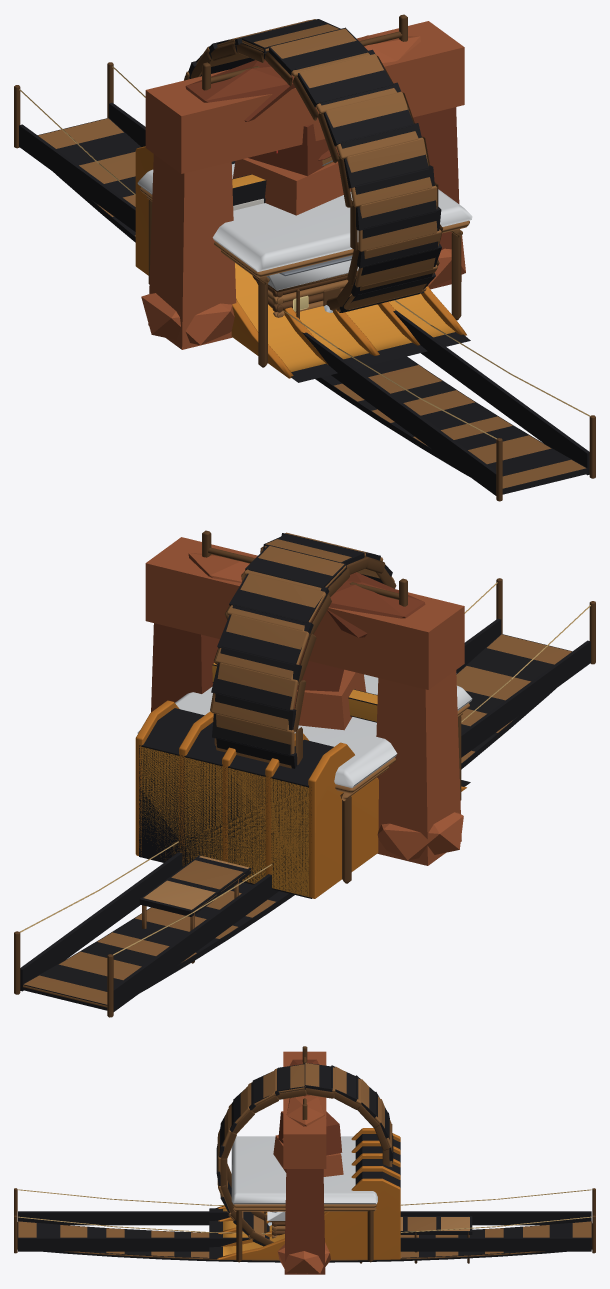
File: props.glb
3 renders of one model, top to bottom at view 1: azimuth 30°, elevation 25°; view 2: azimuth 150°, elevation 25°; view 3: azimuth 270°, elevation 25°, orthographic. The views are drawn at different scales.
Parts seen in each view (by area): view 1: arch, bridge_col, stunt_loop, stunt_loop_col, wave_ramp, gallery, bridge, pillar, cabin, wave_ramp_col, gate_col; view 2: arch, wave_ramp, bridge_col, wave_ramp_col, stunt_loop, bridge, stunt_loop_col, gallery, pillar, dock, dock_col, gate; view 3: bridge_col, arch, wave_ramp, gallery, stunt_loop, bridge, stunt_loop_col, wave_ramp_col, pillar, dock, dock_col, cabin.
Part boxes in pixels (x1=…): arch: x1=141, y1=21, x2=465, y2=349; bridge_col: x1=19, y1=102, x2=589, y2=495; stunt_loop: x1=184, y1=14, x2=442, y2=311; stunt_loop_col: x1=188, y1=19, x2=441, y2=312; wave_ramp: x1=135, y1=146, x2=466, y2=378; gallery: x1=137, y1=163, x2=472, y2=367; bridge: x1=14, y1=62, x2=595, y2=501; pillar: x1=233, y1=124, x2=350, y2=215; cabin: x1=252, y1=260, x2=358, y2=317; wave_ramp_col: x1=231, y1=161, x2=470, y2=382; gate_col: x1=232, y1=174, x2=266, y2=205; arch: x1=145, y1=537, x2=464, y2=865; wave_ramp: x1=135, y1=700, x2=466, y2=898; bridge_col: x1=20, y1=618, x2=590, y2=1011; wave_ramp_col: x1=139, y1=708, x2=470, y2=898; stunt_loop: x1=202, y1=530, x2=407, y2=768; bridge: x1=14, y1=578, x2=595, y2=1017; stunt_loop_col: x1=211, y1=533, x2=392, y2=768; gallery: x1=137, y1=674, x2=472, y2=883; pillar: x1=294, y1=646, x2=365, y2=730; dock: x1=142, y1=856, x2=250, y2=963; dock_col: x1=139, y1=855, x2=251, y2=916; gate: x1=212, y1=663, x2=377, y2=721; bridge_col: x1=17, y1=1211, x2=592, y2=1262; arch: x1=277, y1=1051, x2=330, y2=1274; wave_ramp: x1=217, y1=1128, x2=400, y2=1259; gallery: x1=231, y1=1136, x2=377, y2=1262; stunt_loop: x1=217, y1=1046, x2=392, y2=1245; bridge: x1=14, y1=1188, x2=595, y2=1260; stunt_loop_col: x1=216, y1=1062, x2=393, y2=1246; wave_ramp_col: x1=209, y1=1134, x2=400, y2=1258; pillar: x1=273, y1=1111, x2=343, y2=1176; dock: x1=360, y1=1216, x2=469, y2=1263; dock_col: x1=400, y1=1216, x2=472, y2=1234; cabin: x1=267, y1=1211, x2=285, y2=1238.
Bounding box in the file's own units: 17.97 × 17.55 × 48.7.
